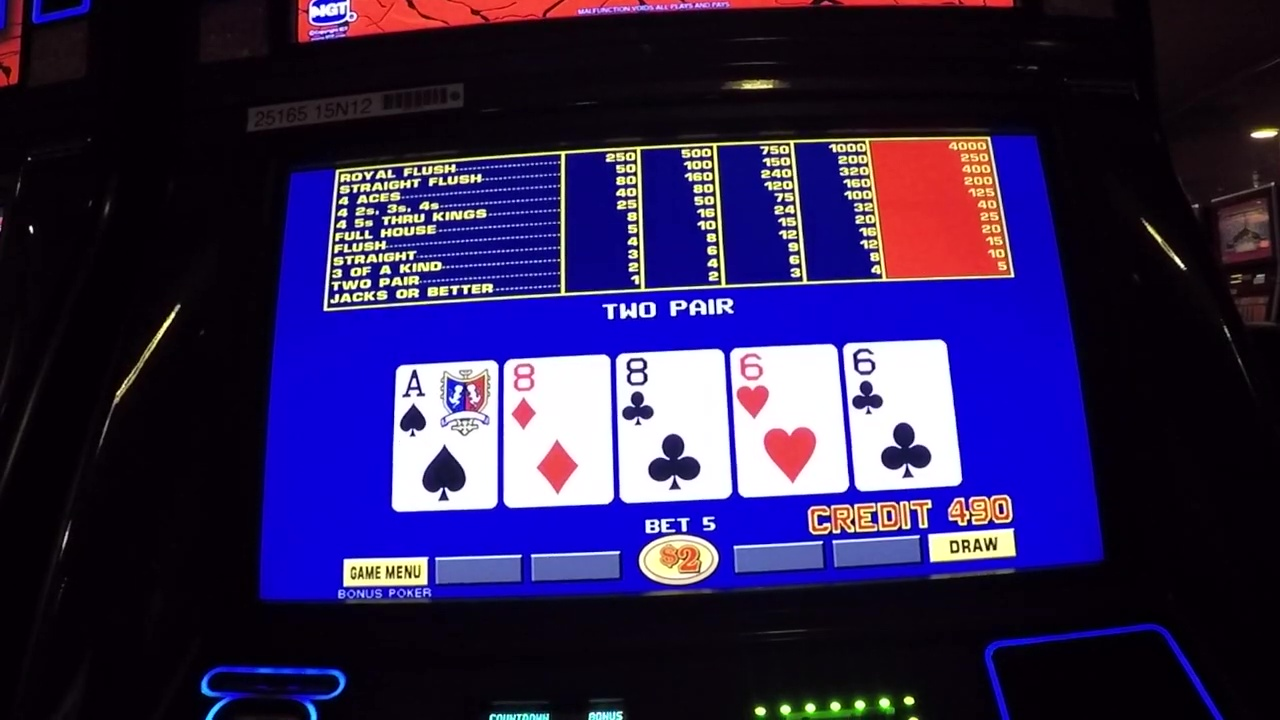C6: (849, 347, 948, 415)
C8: (619, 353, 724, 425)
D8: (507, 361, 609, 435)
H6: (735, 347, 838, 423)
SA: (396, 365, 498, 437)
